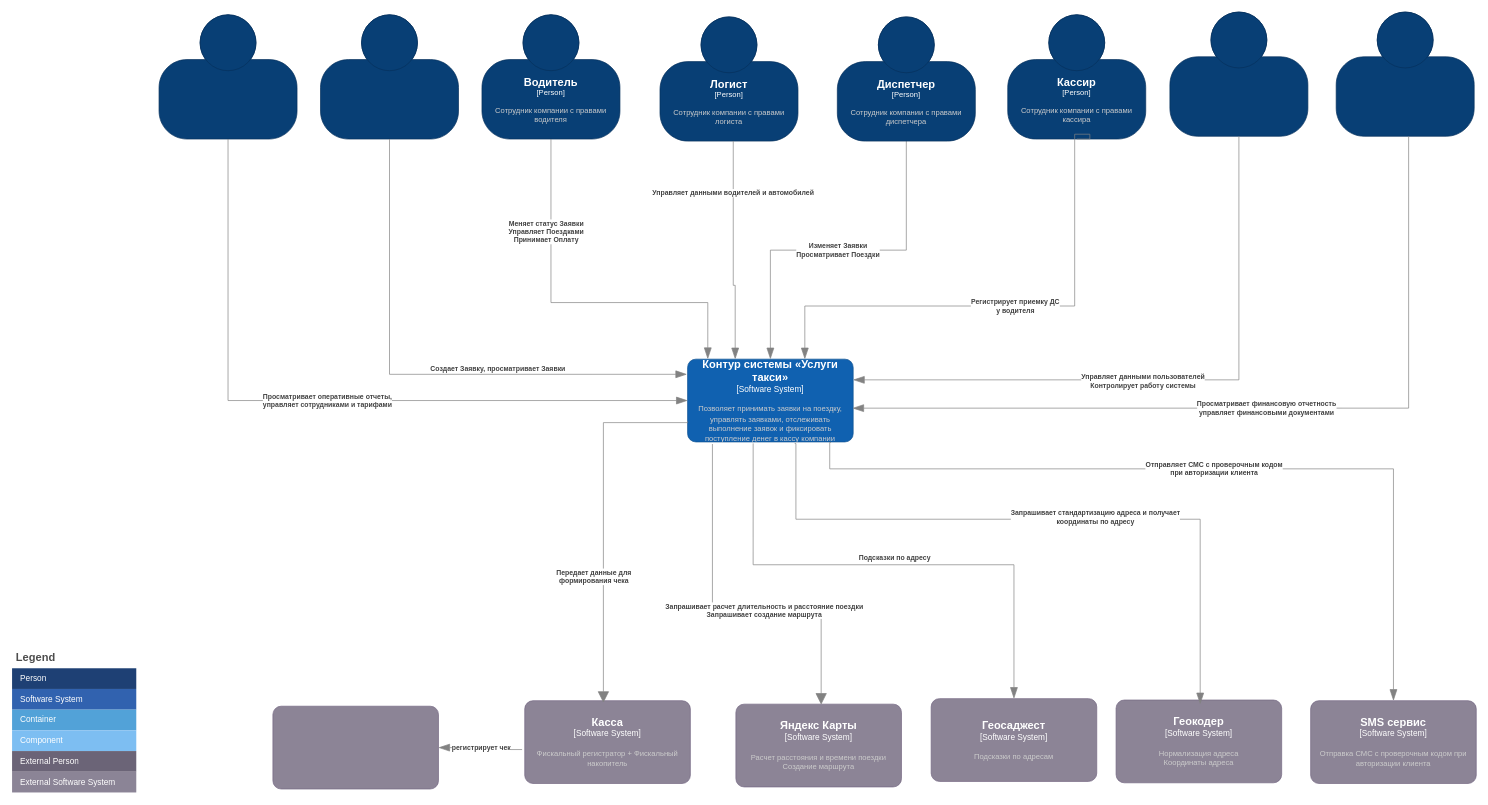
Image size: 1488x805. Some labels were removed from this diagram. Each missing label, with the centre of its shape:
"Администратор [Person] Сотрудник компании с правами админитсратора" goes at pixel 1238 73.
"Бухгалтер [Person] Сотрудник компании с правами бухгалтера" goes at pixel 1404 73.
"Клиент [Person] Пользователь системы с правами клиента" goes at pixel 389 76.
"Менеджер [Person] Пользователь системы с правами менеджера" goes at pixel 227 76.
"ОФД [Software System] Передача данных по оплате в налоговую" goes at pixel 355 747.
